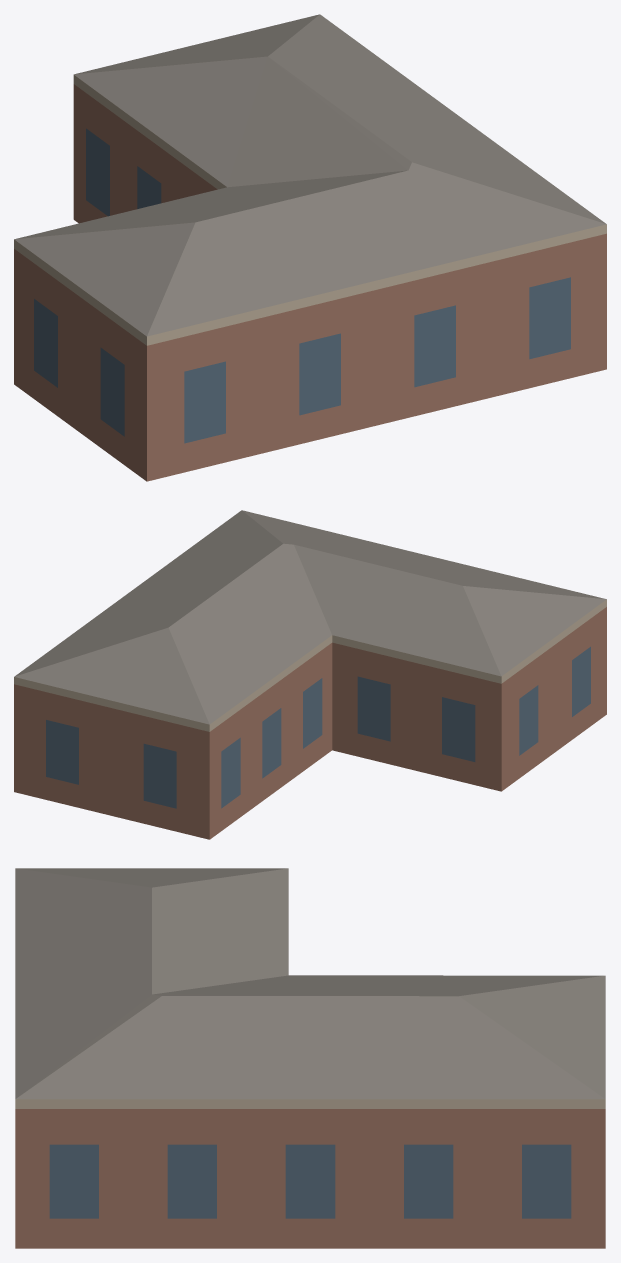
File: dc-au-former-child-development-center.glb
The picture shows the model from 3 angles, top to bottom: view 1: azimuth 30°, elevation 25°; view 2: azimuth 150°, elevation 25°; view 3: azimuth 270°, elevation 25°; orthographic projection. The views are drawn at different scales.
Visible parts, largest first — view 1: Former Child Development Center; view 2: Former Child Development Center; view 3: Former Child Development Center.
Part boxes in pixels (x1,y1,x2,y2): Former Child Development Center: (14,14,606,481); Former Child Development Center: (14,510,606,839); Former Child Development Center: (15,868,605,1248).
Size of the model in its own units: 16.67 by 6.38 by 18.
